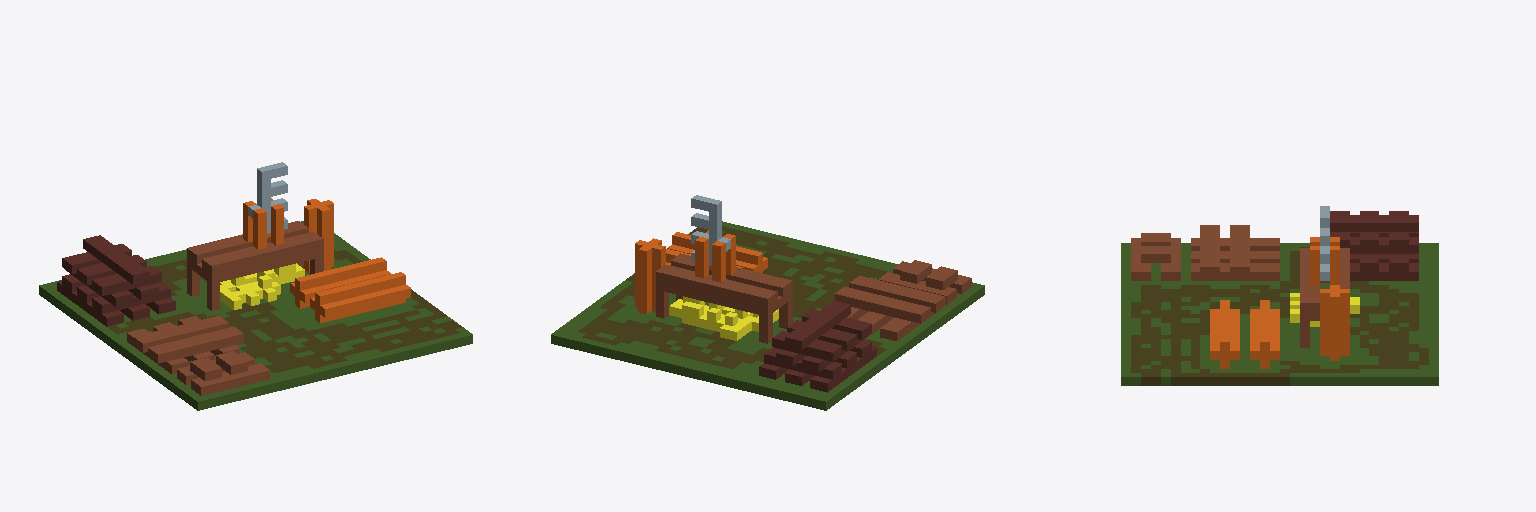
3 renders of one model, left to right at view 1: azimuth 30°, elevation 25°; view 2: azimuth 150°, elevation 25°; view 3: azimuth 270°, elevation 25°, orthographic.
Parts seen in each view (by area): view 1: object 1; view 2: object 1; view 3: object 1.
Part boxes in pixels (x1,y1,x2,y2): object 1: (39,162,472,410); object 1: (551,195,984,410); object 1: (1121,206,1438,385).
Size of the model in its own units: 3.2 by 1.4 by 3.2.
Materials: 1 (1 with a texture image).